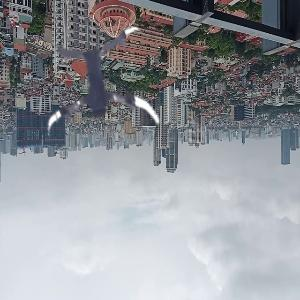drone: (35, 30, 165, 160)
